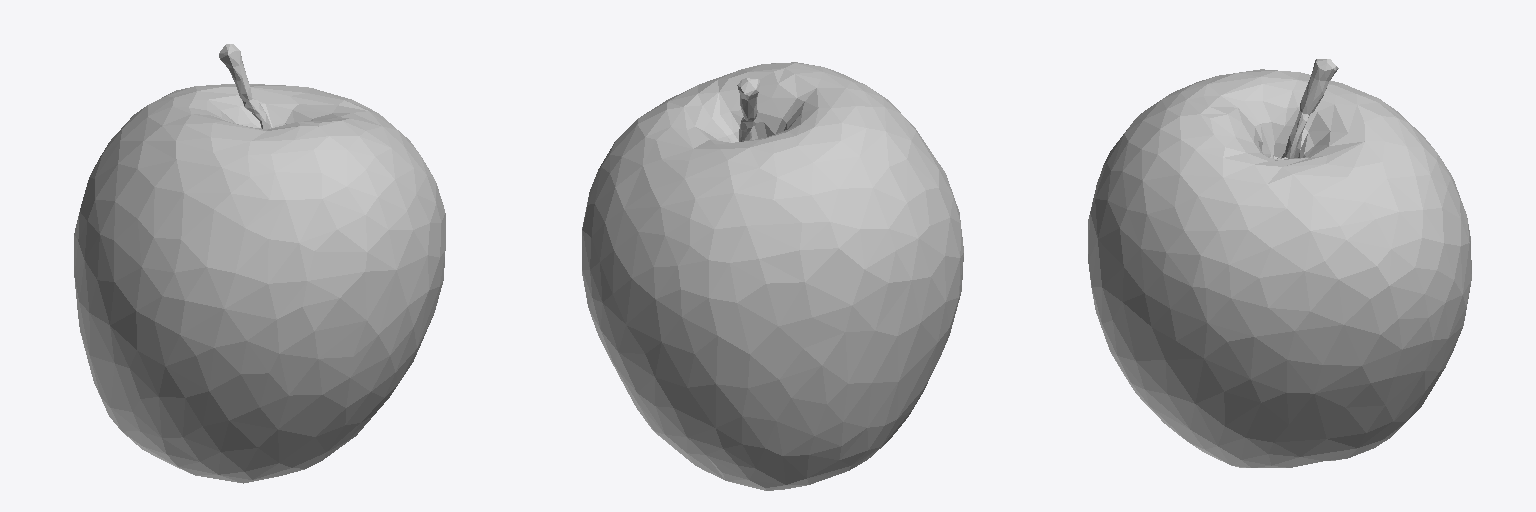
File: food1.obj
The picture shows the model from 3 angles: view 1: azimuth 30°, elevation 25°; view 2: azimuth 150°, elevation 25°; view 3: azimuth 270°, elevation 25°; orthographic projection.
Visible parts, largest first — view 1: objapple.001; view 2: objapple.001; view 3: objapple.001.
Part boxes in pixels (x1,y1,x2,y2): objapple.001: (74,44,445,483); objapple.001: (582,62,963,490); objapple.001: (1088,59,1471,467).
Bounding box in the file's own units: 0.0337 × 0.0388 × 0.0345.